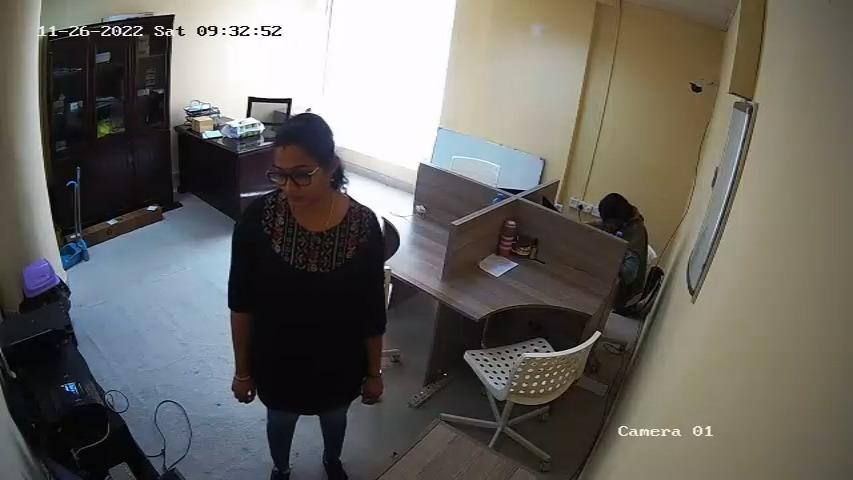no_apron: (255, 210, 357, 403)
